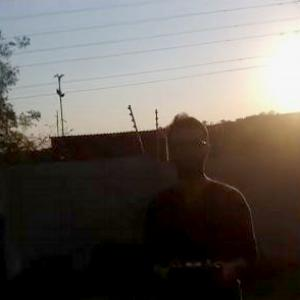follow: (139, 106, 261, 299)
